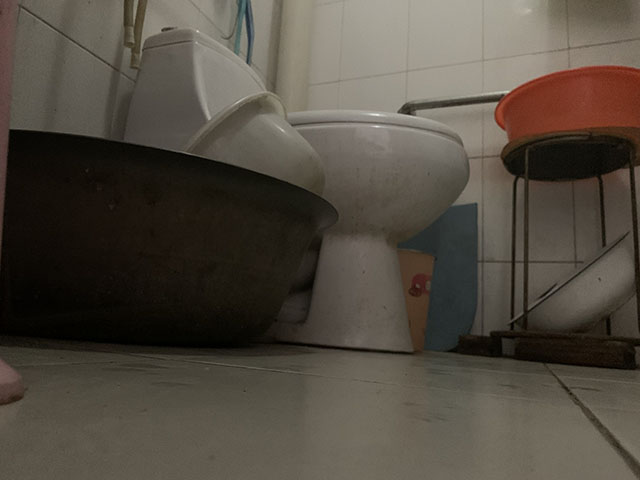closestool: (123, 26, 472, 354)
